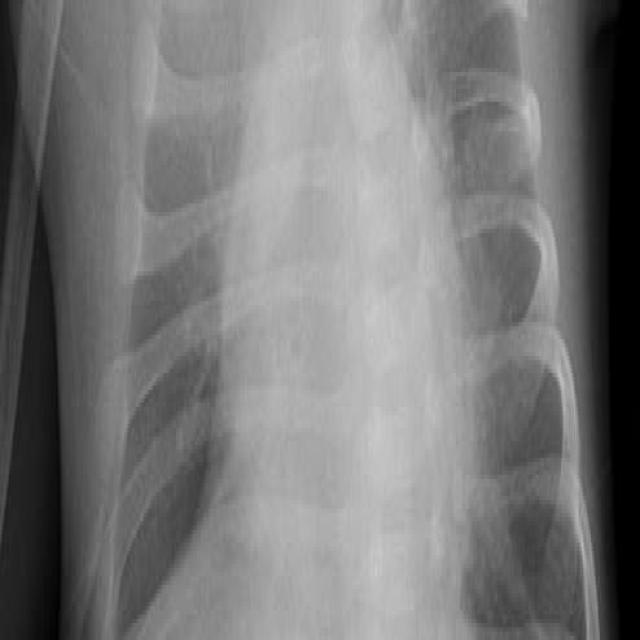low-pneumonia: (465, 200, 537, 631), (390, 1, 472, 179), (195, 10, 250, 251)
